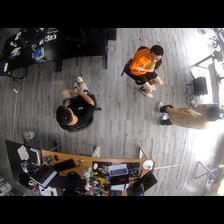normal: (54, 74, 103, 134), (117, 42, 165, 95), (156, 100, 219, 134)
